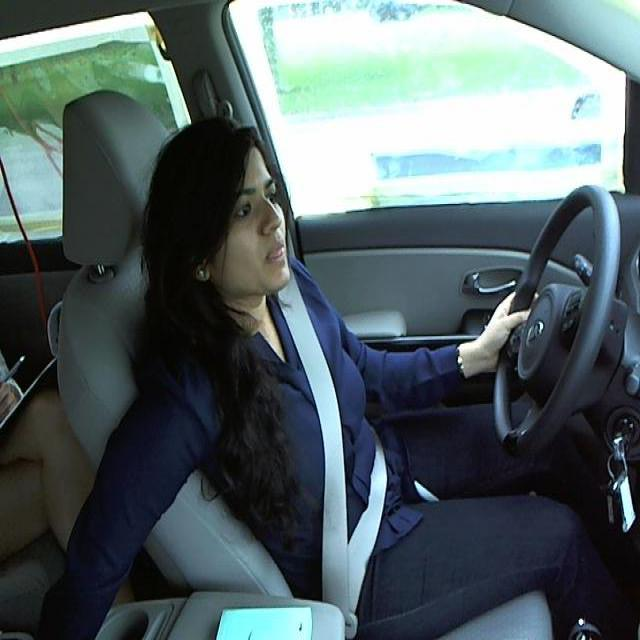seatbelt: (280, 306, 388, 602)
